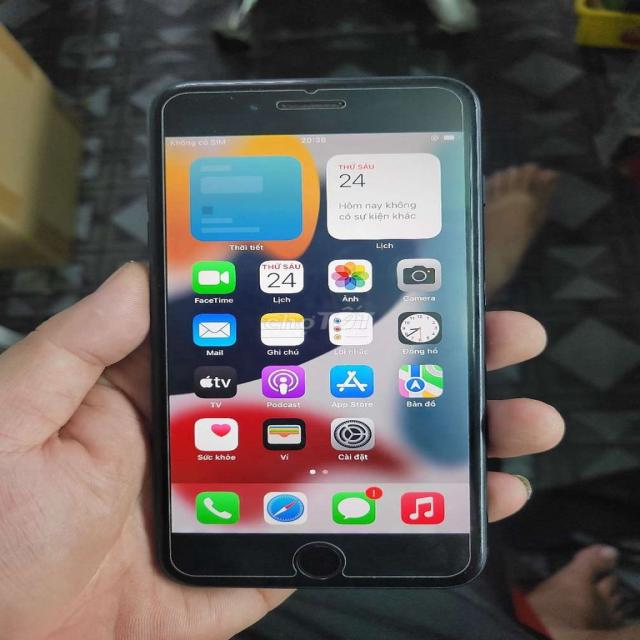scratch: (442, 81, 483, 133), (474, 215, 488, 352), (454, 534, 491, 578), (170, 78, 311, 88), (221, 93, 233, 102)
